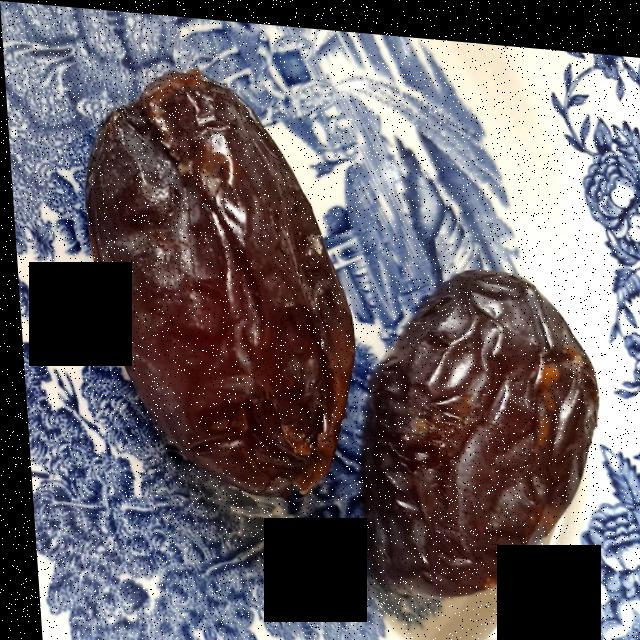dates: (90, 69, 592, 584)
